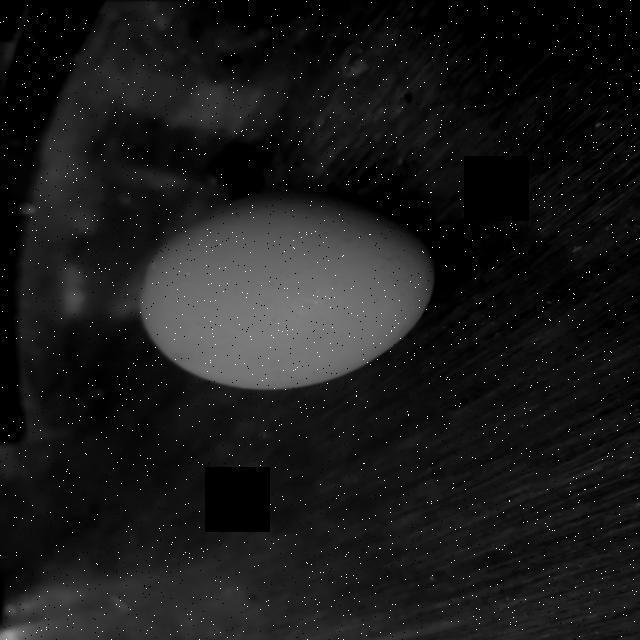egg: (135, 182, 444, 389)
